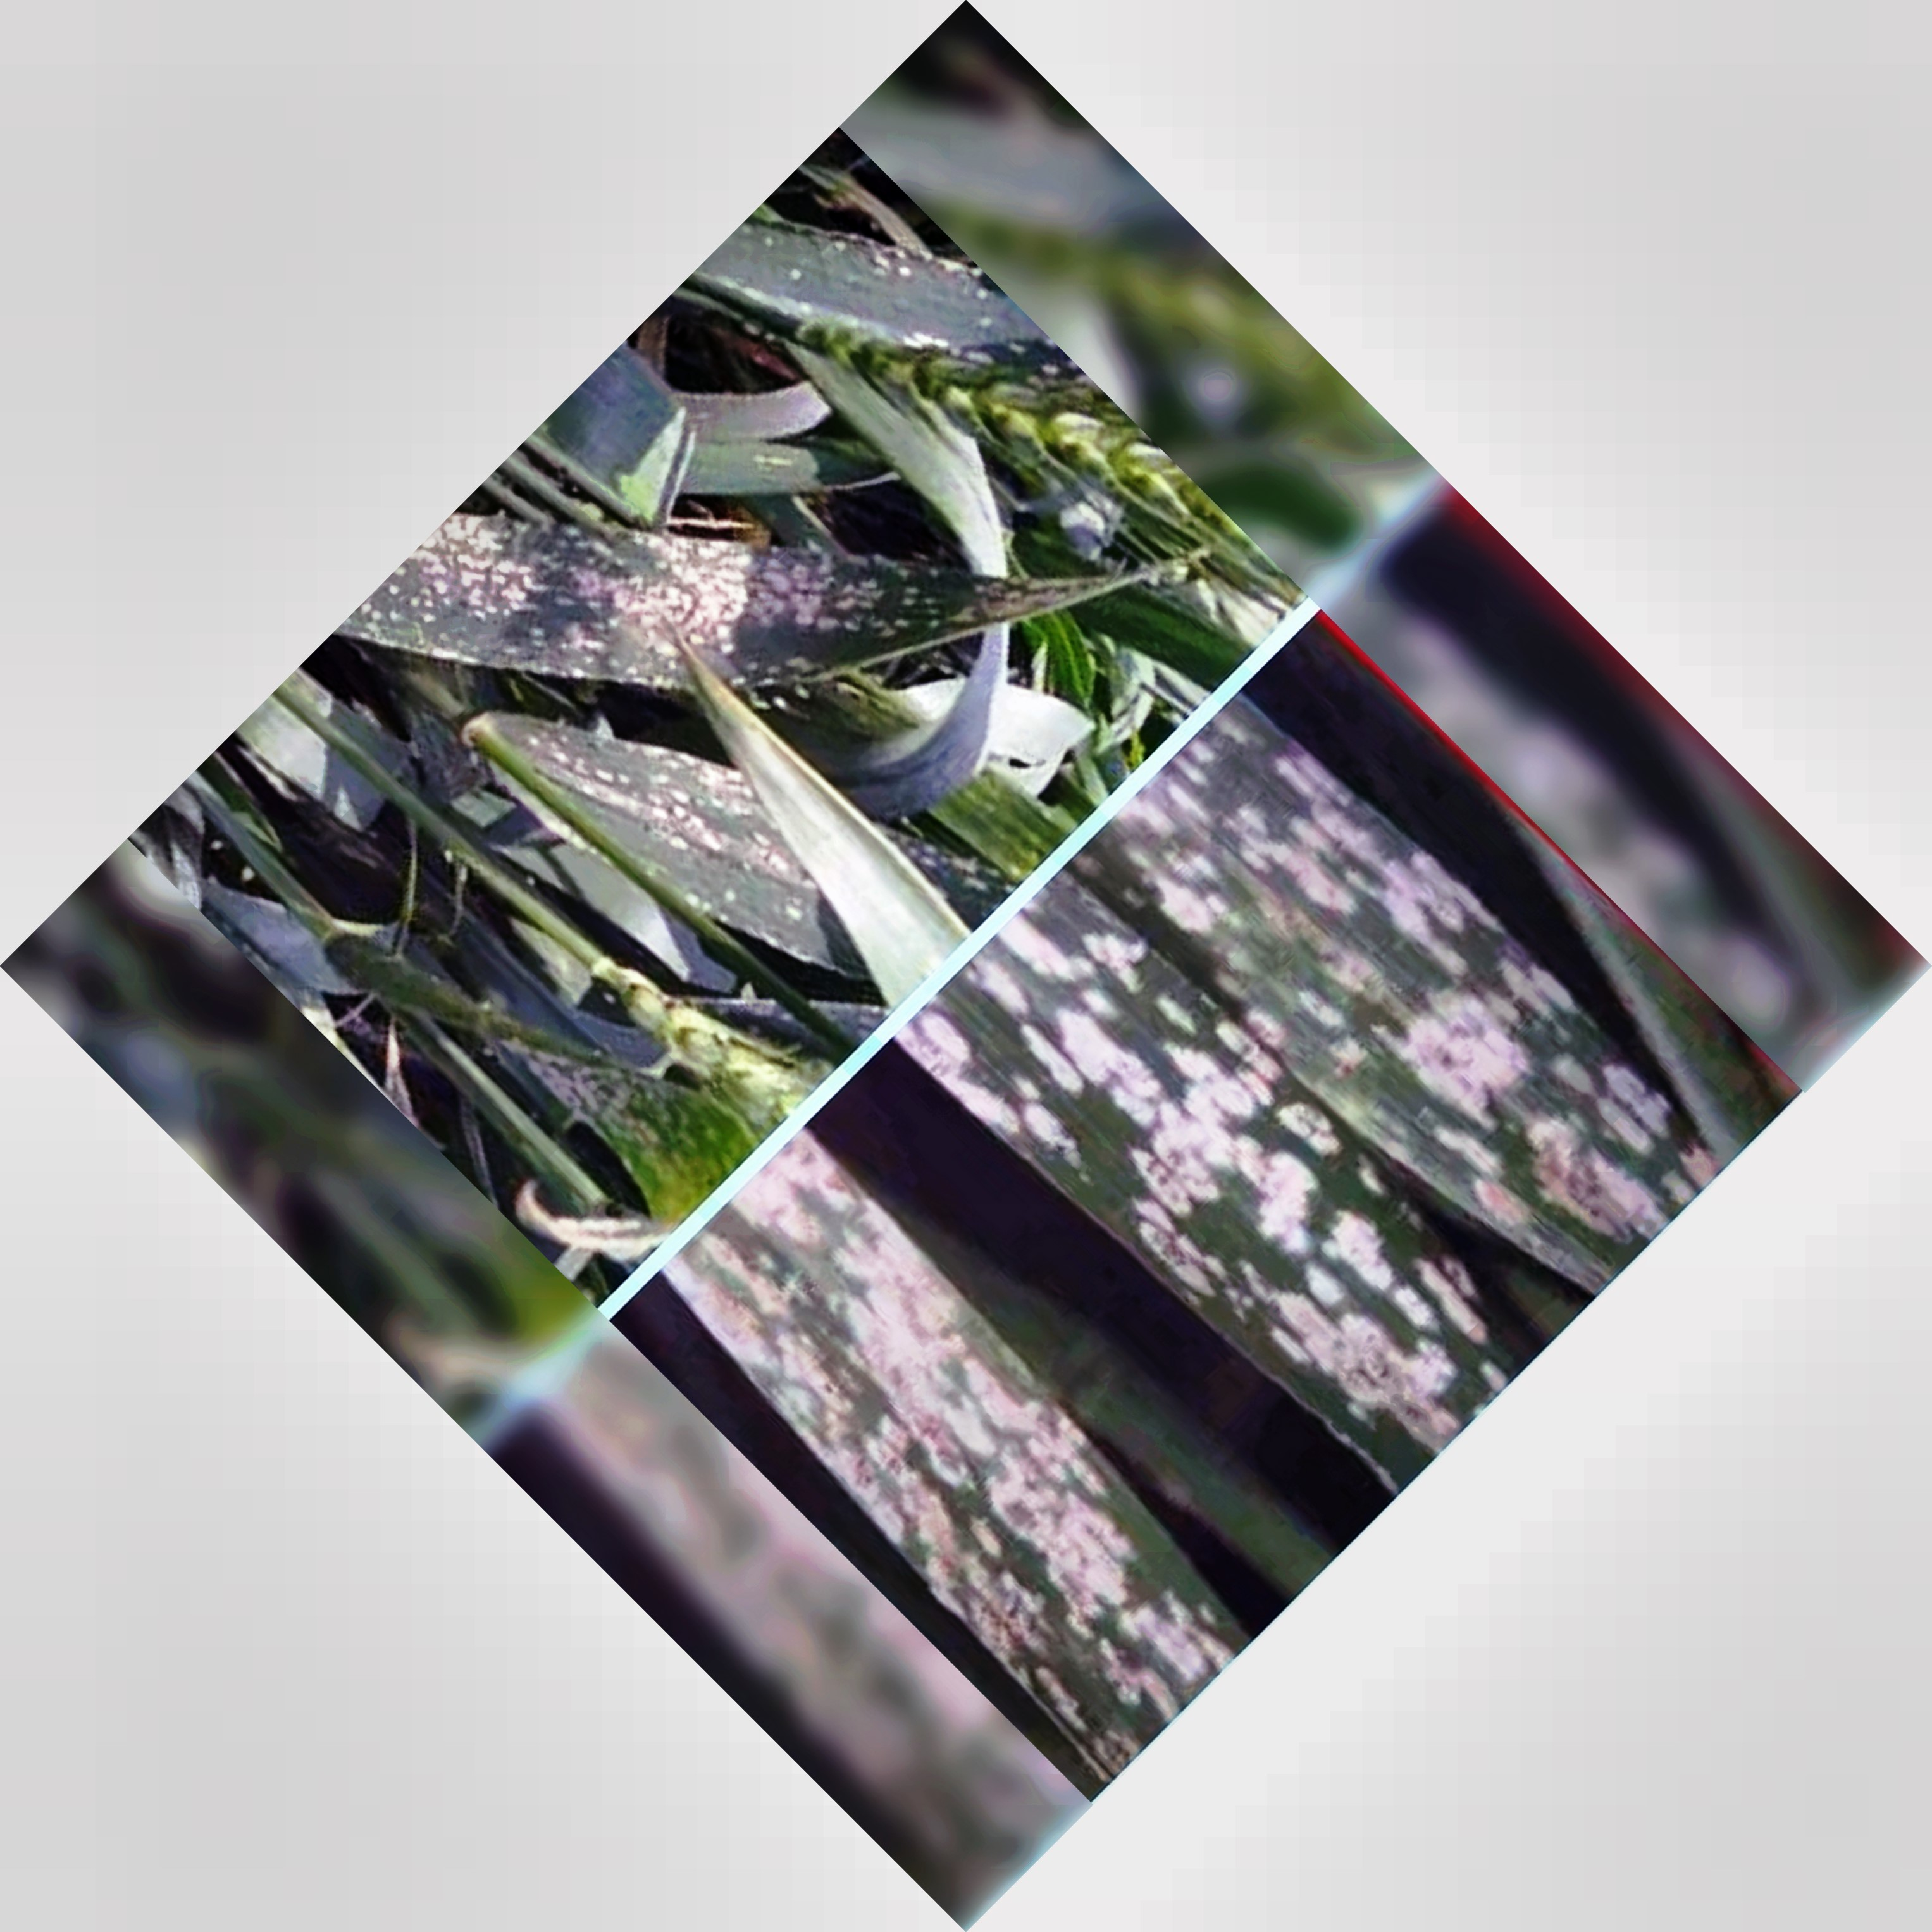Powdery Mildew: (966, 966, 1474, 1463), (421, 499, 977, 715)
